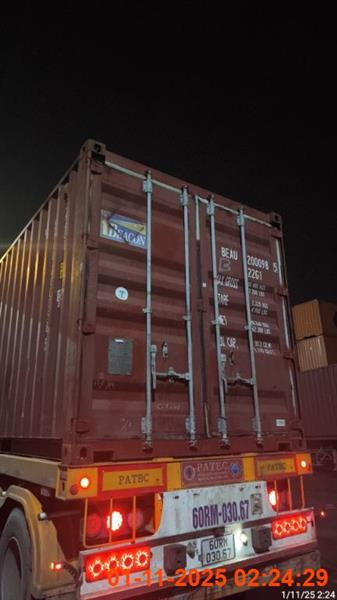broken: (0, 141, 326, 599)
